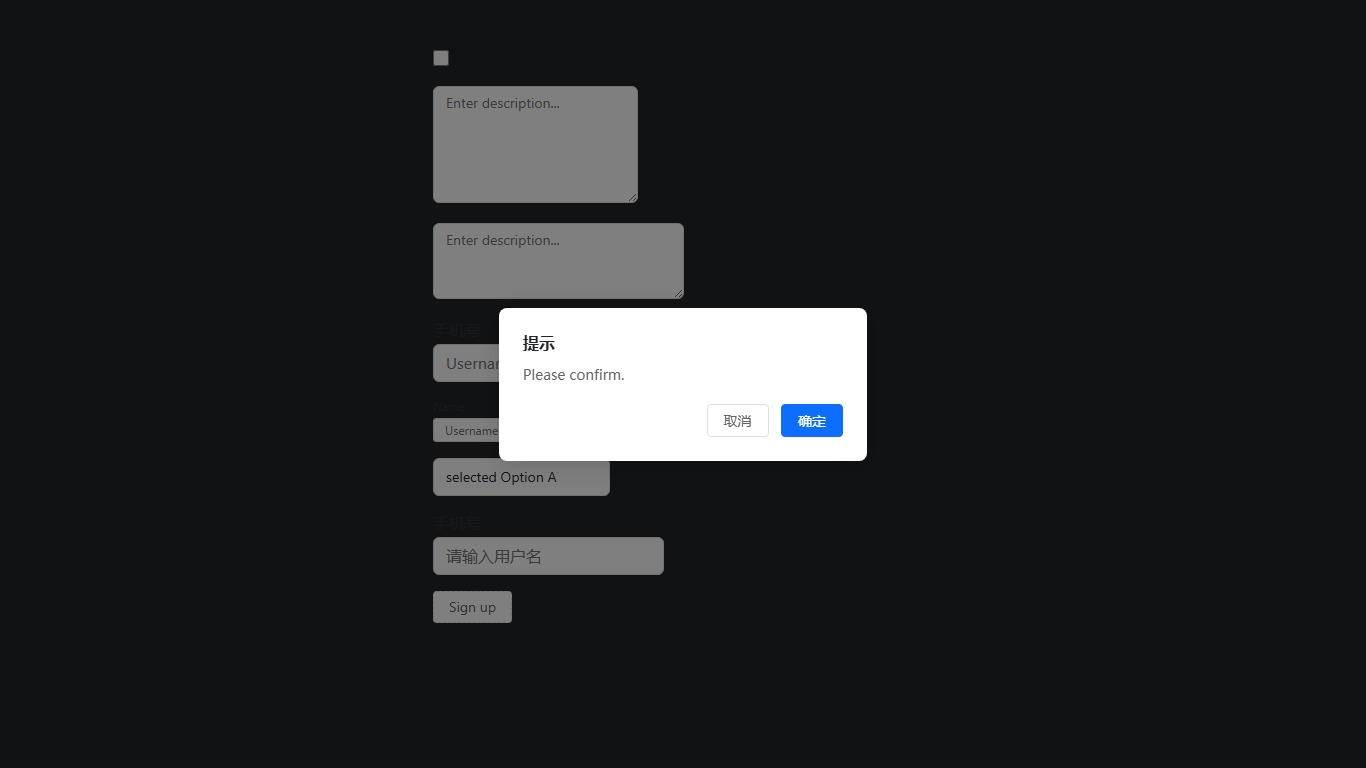button: (433, 591, 512, 623), (707, 403, 769, 437), (781, 403, 843, 437)
checkbox: (433, 50, 449, 66)
icon: (457, 48, 513, 67)
input: (433, 343, 763, 381), (433, 536, 664, 574), (433, 418, 645, 442)
modal: (0, 0, 1366, 768)
radio: (433, 48, 513, 67)
select: (433, 458, 610, 496)
textarea: (433, 85, 638, 203), (433, 223, 684, 299)
